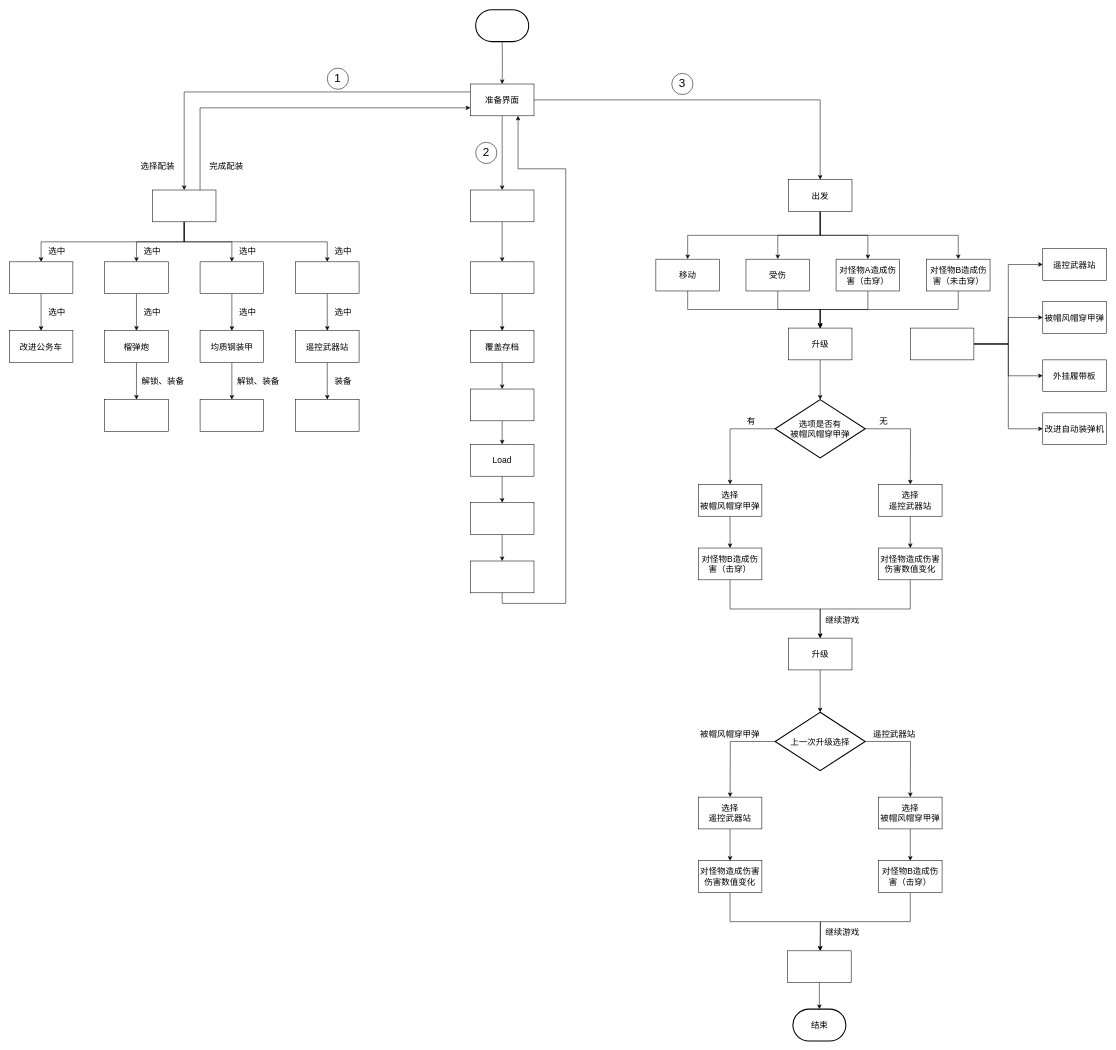
This 1116x1050 diagram has some shape labels left out. The shapes that lost their labels are listed below. From the top down, each one's centre as x and y in pixels, then its label:
At (x=502, y=25): "开始".
At (x=184, y=205): "车型预览图".
At (x=502, y=205): "Save".
At (x=41, y=277): "车辆类型".
At (x=136, y=277): "车载主武器".
At (x=232, y=277): "装甲".
At (x=327, y=277): "配件槽1".
At (x=502, y=277): "新建存档".
At (x=942, y=344): "升级选项池".
At (x=136, y=415): "主武器栏 榴弹炮".
At (x=232, y=415): "装甲栏 均质钢装甲".
At (x=327, y=415): "配件槽1 遥控武器站".
At (x=502, y=404): "退出到主界面".
At (x=502, y=518): "加载存档".
At (x=502, y=576): "检查配装是否一致".
At (x=819, y=966): "关卡结算".
